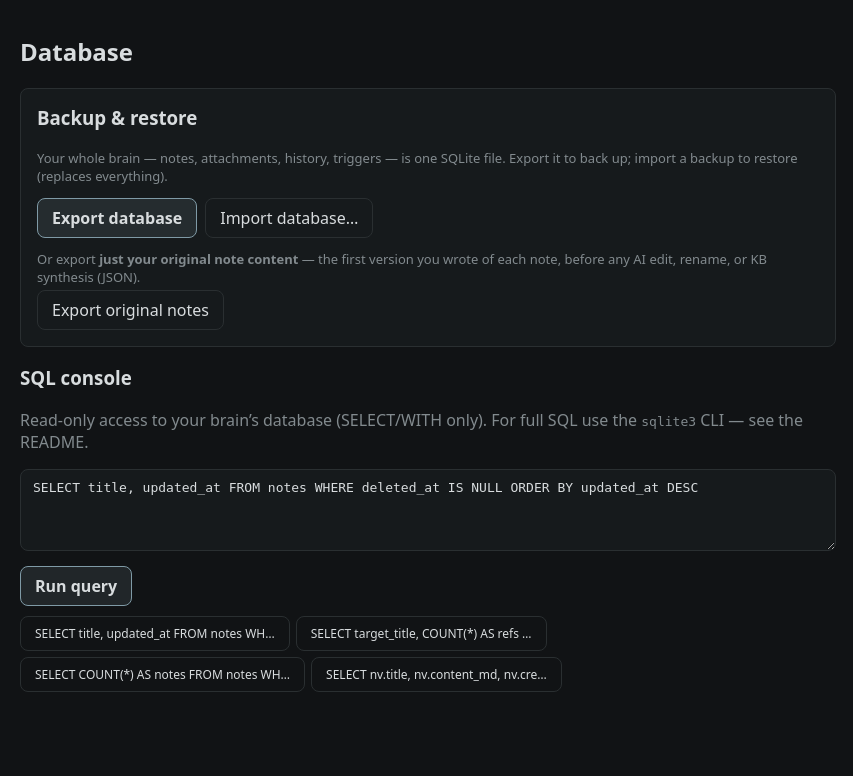
Test case: SqlConsole — query console › runs a query: POSTs the edited SQL and renders result columns + rows
Replace the text in the text box with "SELECT title, updated_at FROM notes" at (428, 510), box [20,469,836,551]
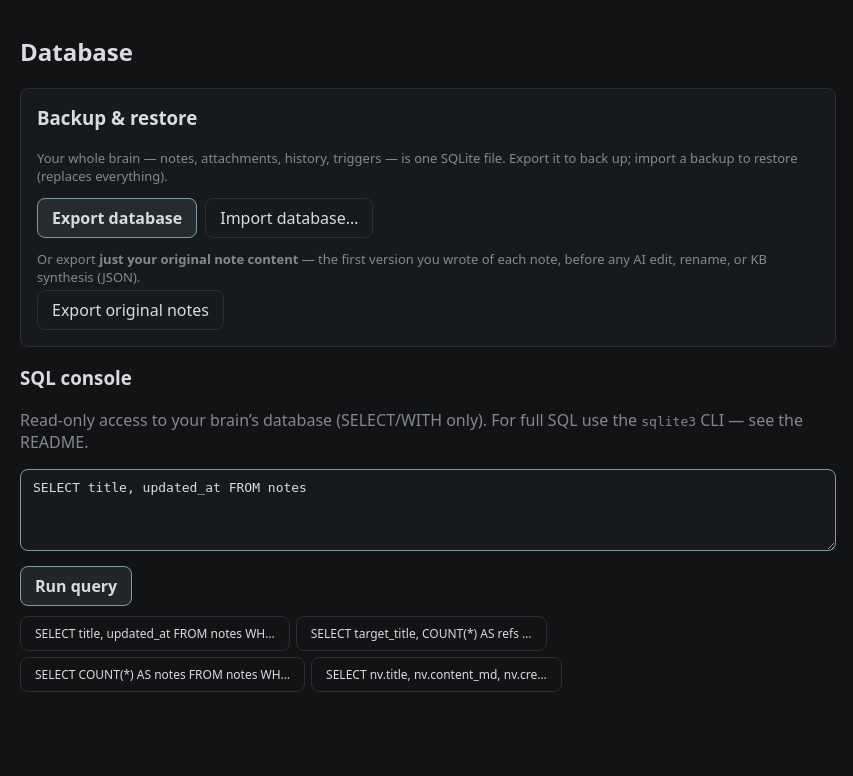
Click the button "Run query" at (76, 586), box [20,566,132,606]
(page scrolled)
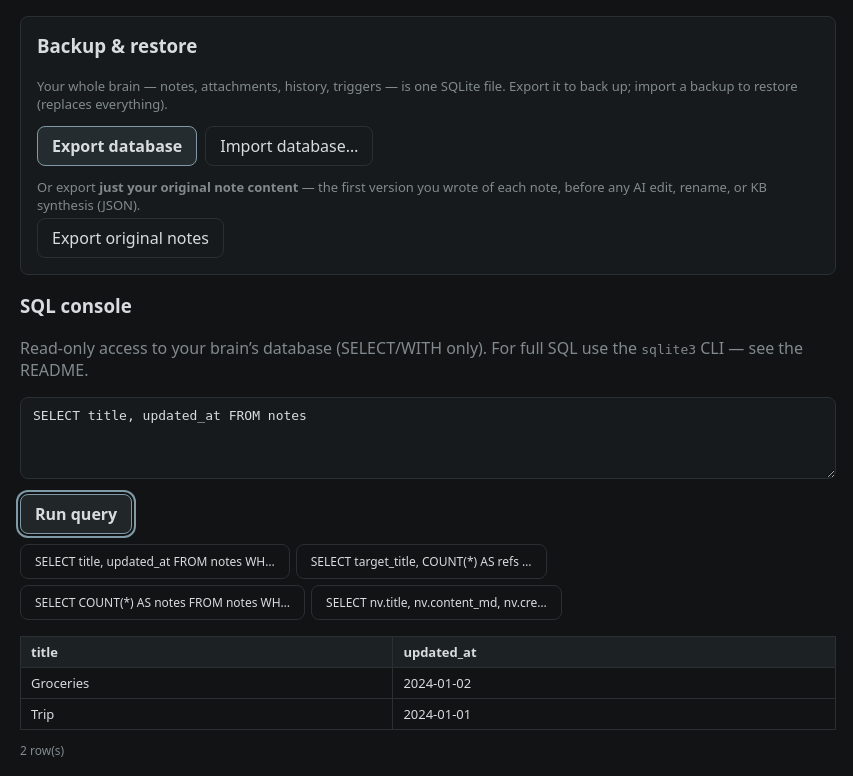
expect the column heading "title" is shown: met, box [20,636,393,668]
expect the column heading "updated_at" is shown: met, box [393,636,836,668]
expect the cell "Groceries" is shown: met, box [20,668,393,698]
